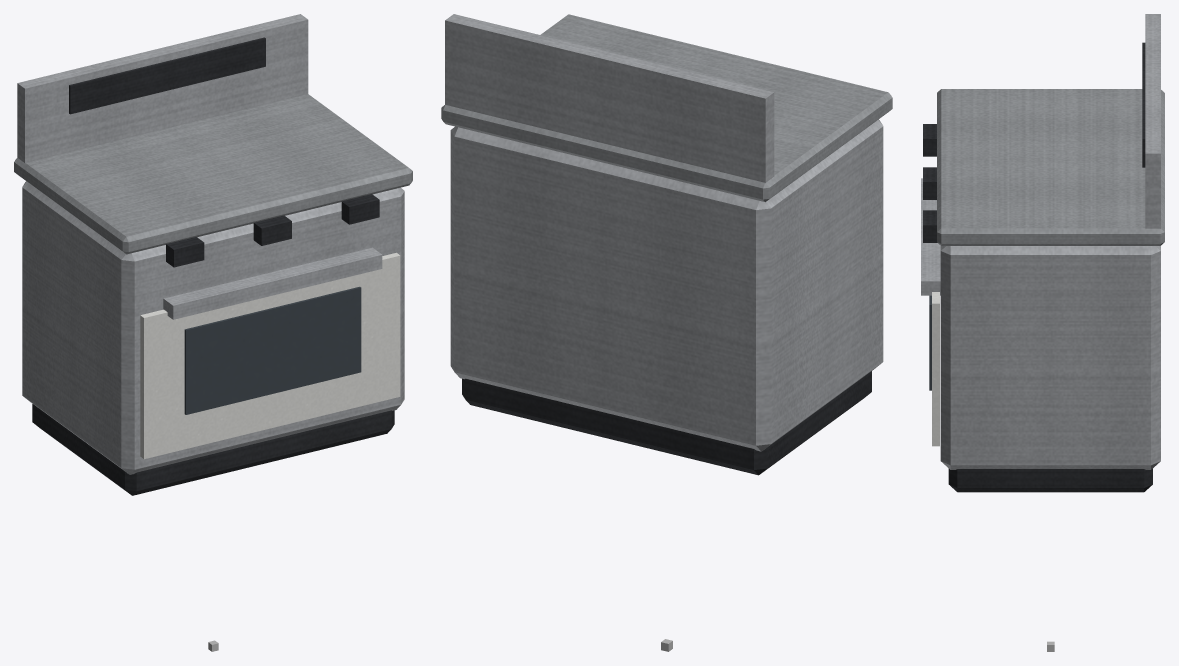
The model's file is rv_furn_stove.gltf.
The picture shows the model from 3 angles, left to right: view 1: azimuth 30°, elevation 25°; view 2: azimuth 150°, elevation 25°; view 3: azimuth 270°, elevation 25°; orthographic projection. The views are drawn at different scales.
Parts seen in each view (by area): view 1: RV_Furn_Stove; view 2: RV_Furn_Stove; view 3: RV_Furn_Stove.
Part boxes in pixels (x1,y1,x2,y2): RV_Furn_Stove: (14, 14, 412, 651); RV_Furn_Stove: (441, 14, 892, 651); RV_Furn_Stove: (921, 14, 1164, 651).
Bounding box in the file's own units: 0.86 × 1.59 × 0.62.
Materials: 6 (5 with a texture image).
